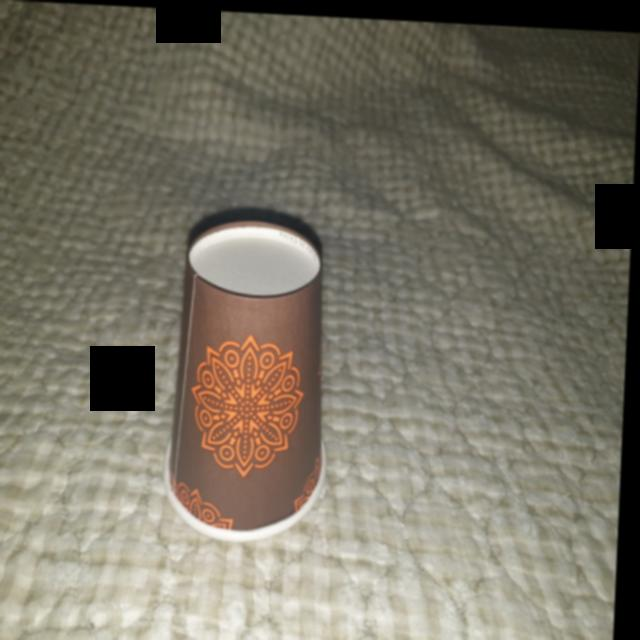cups: (160, 203, 347, 542)
